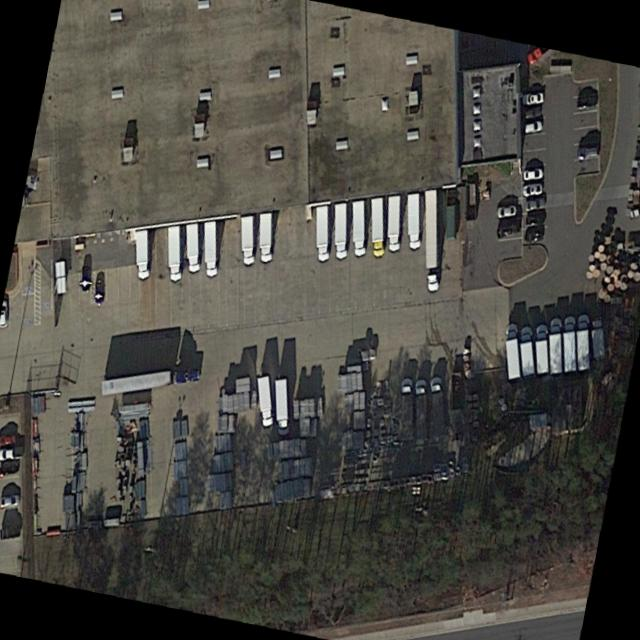large-vehicle: (99, 367, 197, 396), (424, 189, 440, 291), (431, 377, 445, 437), (257, 376, 273, 427), (506, 324, 520, 380), (400, 378, 412, 442), (275, 378, 288, 437), (520, 325, 534, 377), (352, 200, 365, 256), (204, 222, 217, 278), (563, 316, 576, 371), (549, 319, 562, 374), (371, 198, 383, 257), (388, 195, 400, 253), (416, 380, 427, 443), (316, 205, 328, 262), (577, 315, 589, 370), (241, 215, 254, 265), (168, 228, 180, 282), (186, 224, 199, 273), (135, 232, 148, 279), (408, 193, 419, 248), (334, 203, 345, 258), (591, 319, 605, 362), (536, 326, 548, 375), (260, 213, 271, 262)
small-vehicle: (575, 93, 598, 112), (521, 181, 545, 198), (523, 91, 546, 108), (575, 144, 599, 160), (0, 493, 20, 511), (0, 461, 21, 478), (497, 224, 520, 239), (521, 167, 544, 182), (523, 119, 543, 135), (0, 447, 24, 460), (80, 264, 91, 292), (524, 198, 547, 211), (496, 204, 519, 217), (94, 278, 104, 307), (524, 214, 546, 227), (0, 433, 20, 447), (524, 230, 545, 242)
